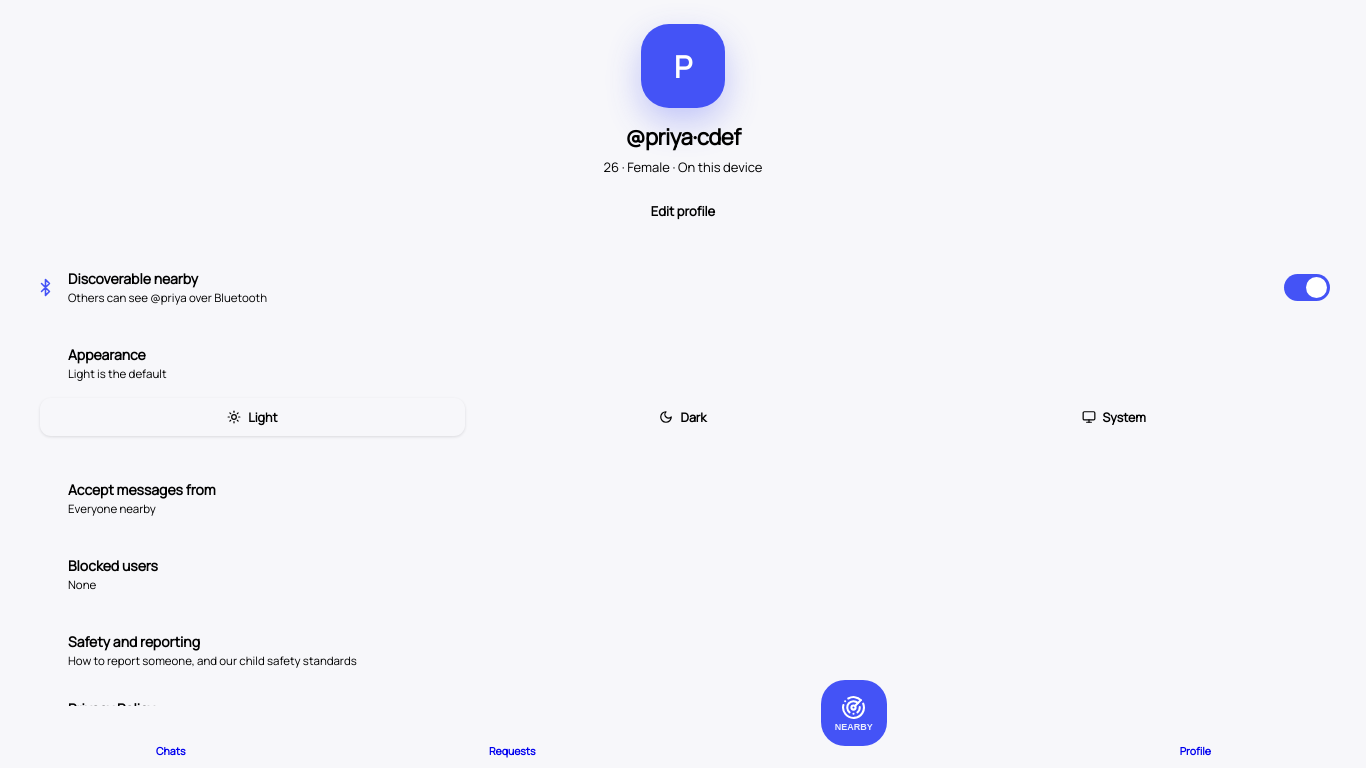
Scenario: ProfileScreen — blocked users › says so when nobody is blocked
What coordinates should you click on to do the following:
click the button "Blocked users None"
I would click on:
 (113, 566)
Its box is [20, 541, 1346, 607].
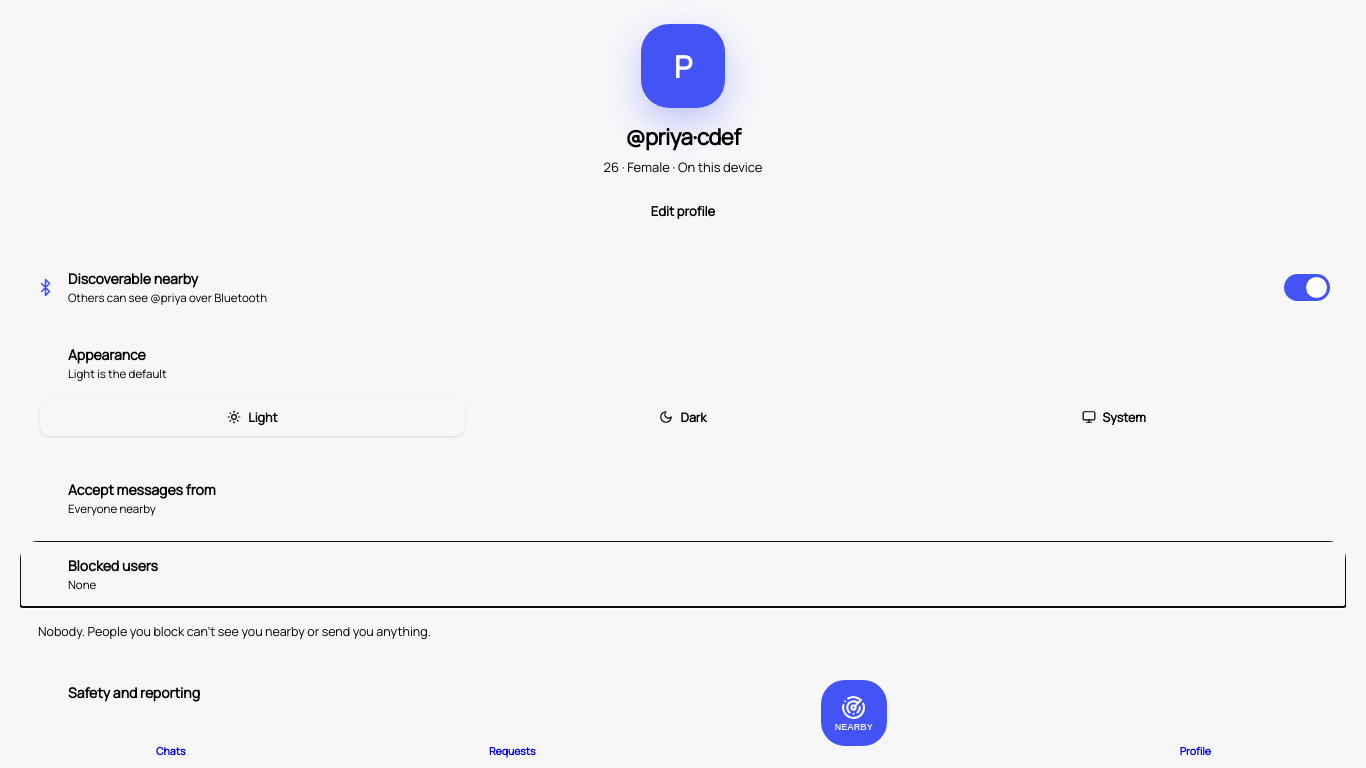
Check: the text "Nobody." is shown, box [38, 623, 431, 640]
